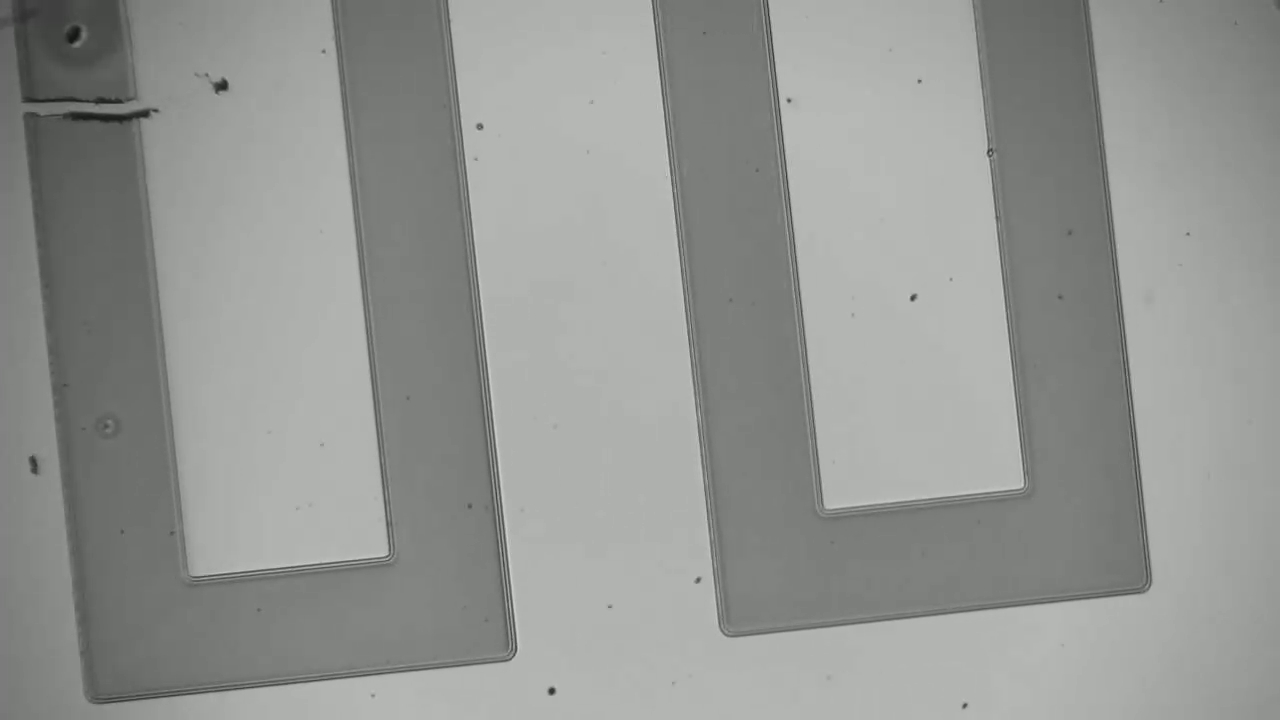Short_circuit: (10, 82, 173, 142)
